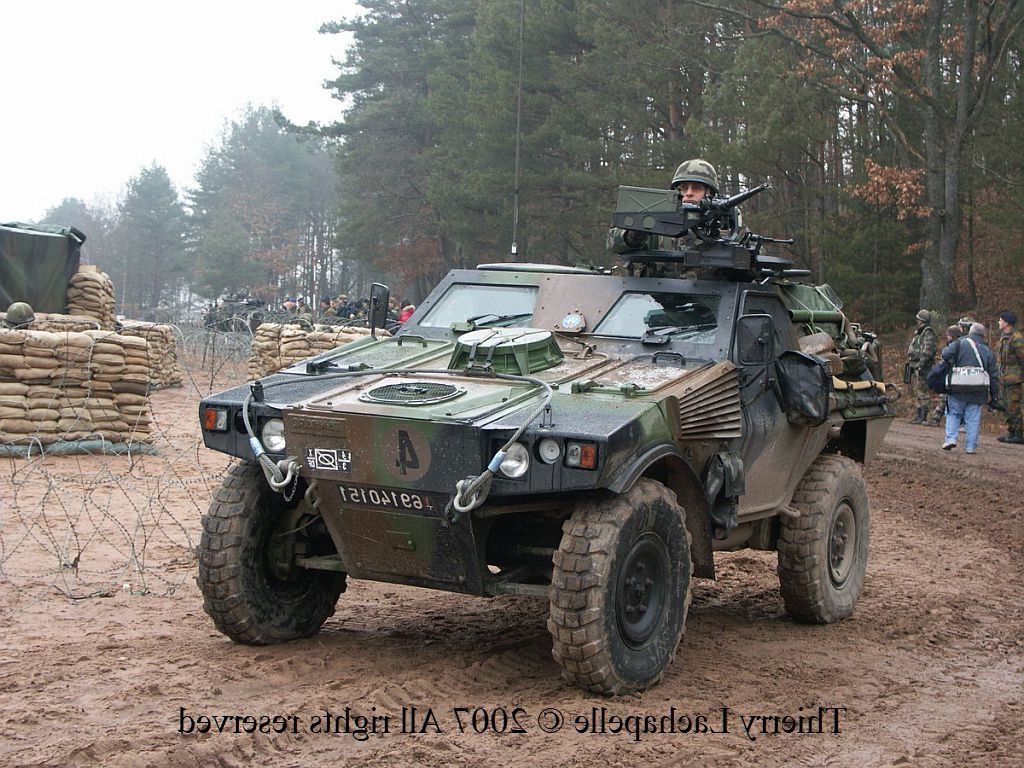license_plate: (334, 478, 437, 517)
